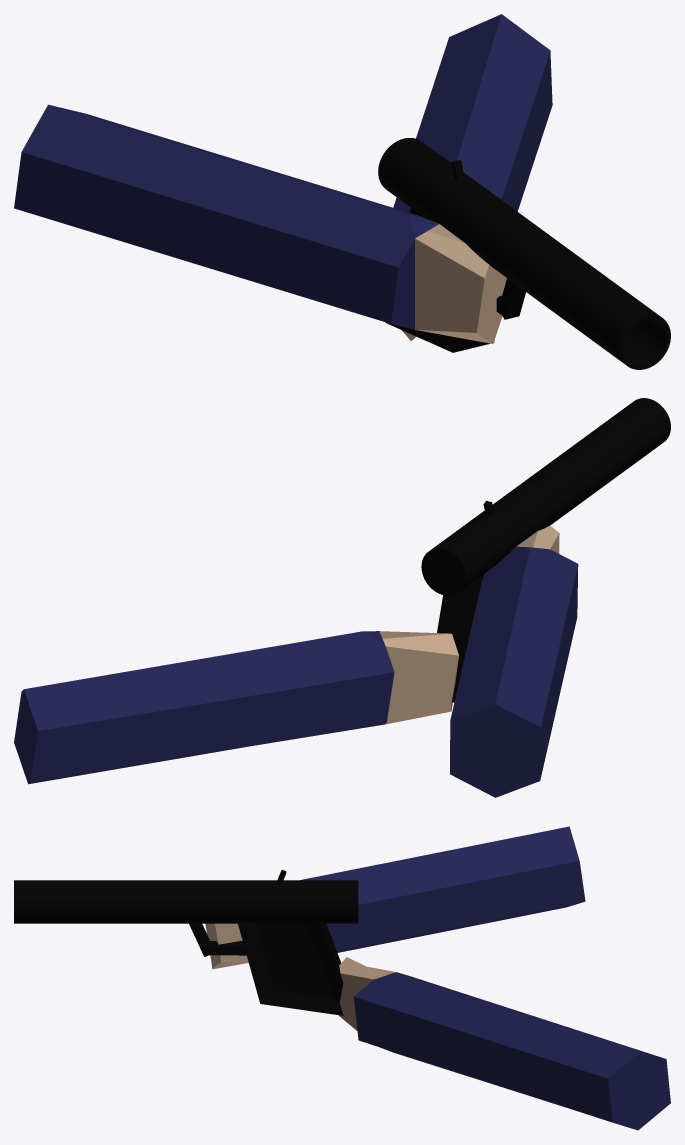
The model's file is 携带手枪.fbx.
3 renders of one model, top to bottom at view 1: azimuth 30°, elevation 25°; view 2: azimuth 150°, elevation 25°; view 3: azimuth 270°, elevation 25°, orthographic. The views are drawn at different scales.
Visible parts, largest first — view 1: 手臂, 枪, 手臂.001; view 2: 手臂.001, 手臂, 枪; view 3: 手臂.001, 枪, 手臂, 弹夹.
Boxes of the visible parts, box(x1,y1,x2,y2) form: 手臂: box(14, 104, 506, 343); 枪: box(378, 138, 670, 369); 手臂.001: box(393, 14, 552, 340); 手臂.001: box(14, 631, 458, 784); 手臂: box(450, 525, 578, 797); 枪: box(421, 398, 670, 702); 手臂.001: box(339, 957, 670, 1130); 枪: box(14, 870, 358, 1015); 手臂: box(205, 826, 585, 969); 弹夹: box(249, 922, 307, 995).
Size of the model in its own units: 1206 by 444 by 1660.
